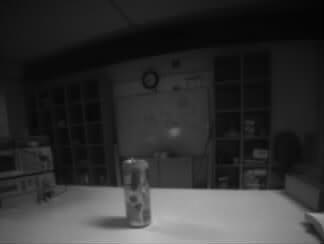Tin can: (123, 158, 150, 227)
